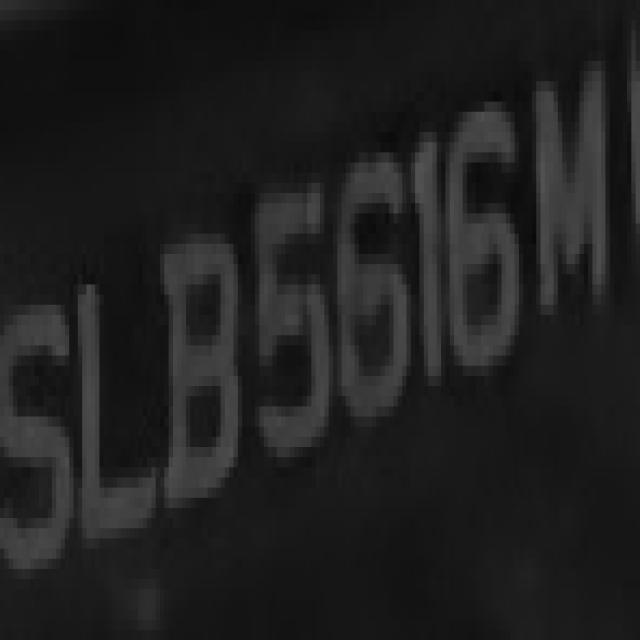1: (402, 81, 450, 447)
5: (242, 142, 333, 508)
6: (324, 163, 411, 447), (446, 91, 510, 376)
B: (156, 193, 242, 559)
L: (60, 234, 152, 579)
M: (528, 41, 614, 325)
S: (4, 244, 82, 599)
